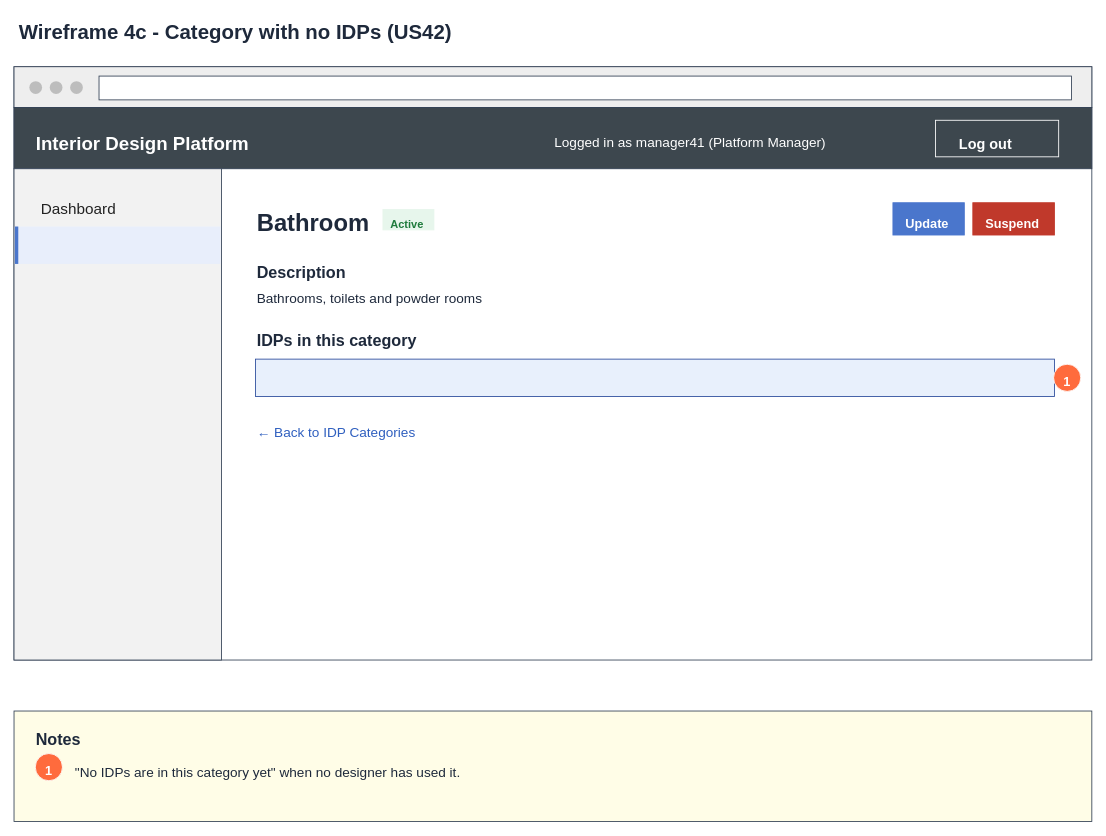
Some shapes in this 1106 by 836 pixel diagram are drawn without their labels. The shapes that lost their labels are listed below. From the top down, each one's box as (x1, y1, x2, y2) in pixels, then its label:
(98, 75, 1071, 100): localhost:5000/manager/categories/4
(14, 226, 220, 264): IDP Categories
(255, 358, 1054, 397): ℹ No IDPs are in this category yet
